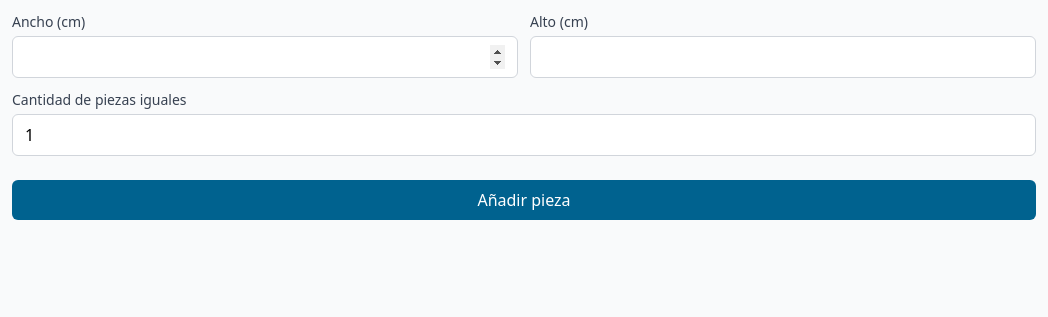
OrderLineForm › M2 › rejects empty dimensions
Click the button with test id "add-piece-btn" at (524, 200), box [12, 180, 1036, 220]
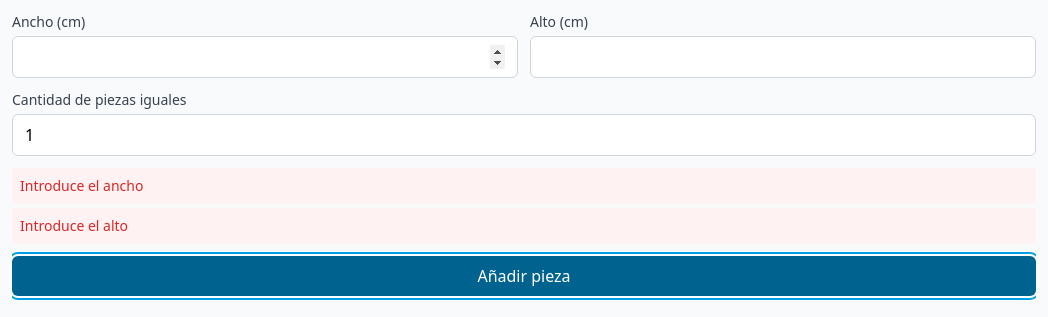
Now the text "Introduce el ancho" is shown, box [12, 168, 1036, 204]
Now the text "Introduce el alto" is shown, box [12, 208, 1036, 244]
